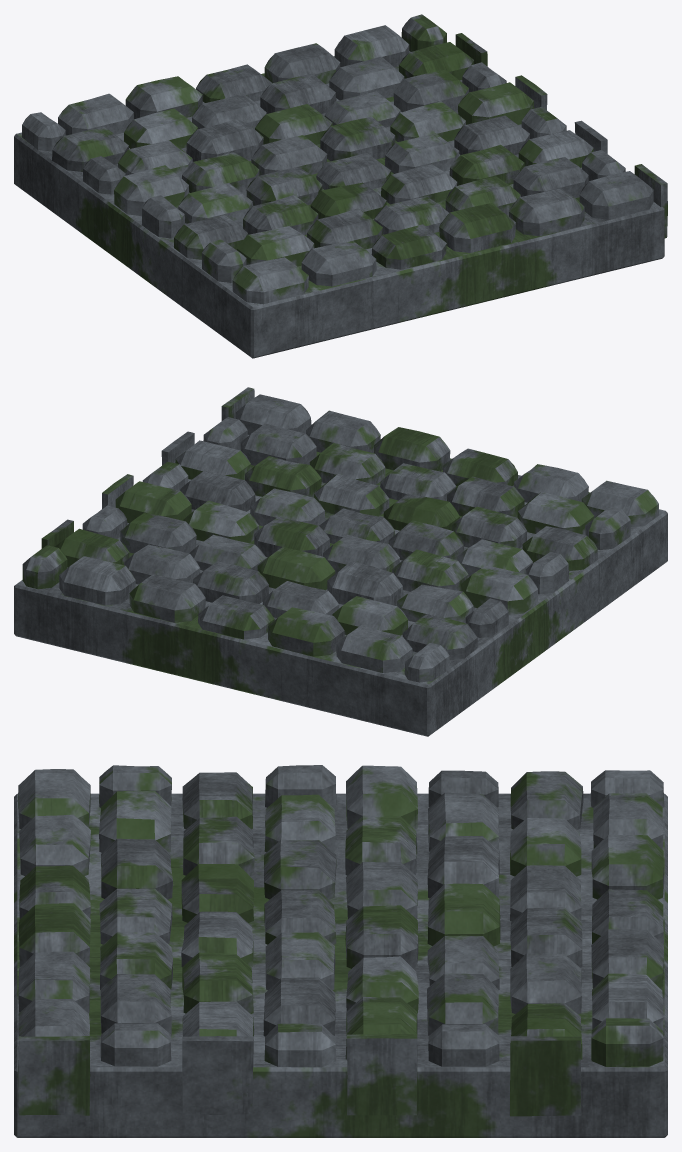
Rendered from Bell_Paving_Sett.glb.
The picture shows the model from 3 angles, top to bottom: view 1: azimuth 30°, elevation 25°; view 2: azimuth 150°, elevation 25°; view 3: azimuth 270°, elevation 25°; orthographic projection. The views are drawn at different scales.
Parts seen in each view (by area): view 1: Bell_Paving_Sett__Stone; view 2: Bell_Paving_Sett__Stone; view 3: Bell_Paving_Sett__Stone.
Part boxes in pixels (left/top/right/bottom): Bell_Paving_Sett__Stone: left=14, top=14, right=667, bottom=358; Bell_Paving_Sett__Stone: left=14, top=387, right=667, bottom=736; Bell_Paving_Sett__Stone: left=14, top=765, right=667, bottom=1137.
Bounding box in the file's own units: 8.05 × 1.44 × 7.98.
1 material, 1 textured.
